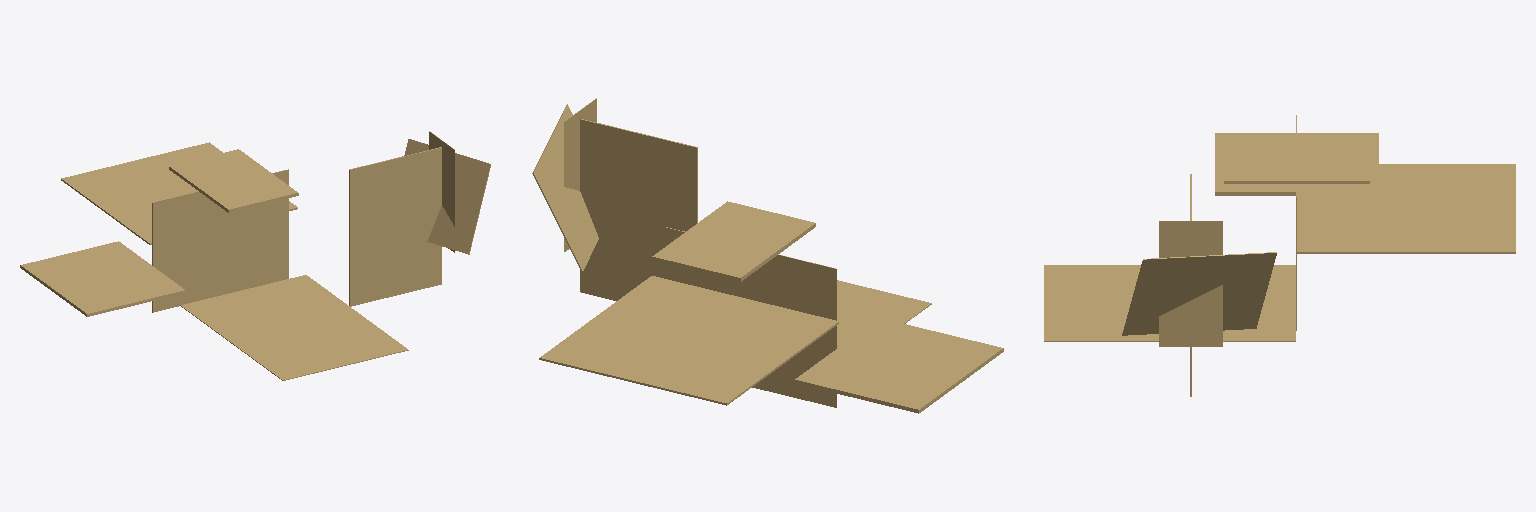
robot.urdf — evolved_design:
<?xml version="1.0" ?>
<robot name="evolved_design">
  <link name="base_link">
    <inertial>
      <mass value="0.001"/>
      <origin xyz="0 0 0" rpy="0 0 0"/>
      <inertia ixx="0.000001" ixy="0" ixz="0" iyy="0.000001" iyz="0" izz="0.000001"/>
    </inertial>
  </link>
  <link name="link_comp_0">
    <inertial>
      <mass value="0.768596"/>
      <origin xyz="0 0 0" rpy="0 0 0"/>
      <inertia ixx="0.034113626" ixy="0" ixz="0" iyy="0.017103133" iyz="0" izz="0.051215608"/>
    </inertial>
    <visual>
      <origin xyz="0 0 0" rpy="0 0 0"/>
      <geometry>
        <box size="0.516740 0.729796 0.002997"/>
      </geometry>
      <material name="link_comp_0_material">
        <color rgba="0.8 0.7 0.5 1"/>
      </material>
    </visual>
    <collision>
      <origin xyz="0 0 0" rpy="0 0 0"/>
      <geometry>
        <box size="0.516740 0.729796 0.002997"/>
      </geometry>
    </collision>
  </link>
  <joint name="base_link_to_link_comp_0" type="fixed">
    <parent link="base_link"/>
    <child link="link_comp_0"/>
    <origin xyz="0.258370 0.364898 0.001499" rpy="0.000000 0.000000 0.000000"/>
  </joint>
  <link name="link_comp_1">
    <inertial>
      <mass value="0.658332"/>
      <origin xyz="0 0 0" rpy="0 0 0"/>
      <inertia ixx="0.015854358" ixy="0" ixz="0" iyy="0.023740530" iyz="0" izz="0.007888647"/>
    </inertial>
    <visual>
      <origin xyz="0 0 0" rpy="0 0 0"/>
      <geometry>
        <box size="0.379171 0.004750 0.537558"/>
      </geometry>
      <material name="link_comp_1_material">
        <color rgba="0.8 0.7 0.5 1"/>
      </material>
    </visual>
    <collision>
      <origin xyz="0 0 0" rpy="0 0 0"/>
      <geometry>
        <box size="0.379171 0.004750 0.537558"/>
      </geometry>
    </collision>
  </link>
  <joint name="base_link_to_link_comp_1" type="fixed">
    <parent link="base_link"/>
    <child link="link_comp_1"/>
    <origin xyz="0.706825 0.424635 0.268779" rpy="0.000000 0.000000 0.000000"/>
  </joint>
  <link name="link_comp_2">
    <inertial>
      <mass value="0.521573"/>
      <origin xyz="0 0 0" rpy="0 0 0"/>
      <inertia ixx="0.008094898" ixy="0" ixz="0" iyy="0.021715280" iyz="0" izz="0.013621258"/>
    </inertial>
    <visual>
      <origin xyz="0 0 0" rpy="0 0 0"/>
      <geometry>
        <box size="0.559803 0.003175 0.431546"/>
      </geometry>
      <material name="link_comp_2_material">
        <color rgba="0.8 0.7 0.5 1"/>
      </material>
    </visual>
    <collision>
      <origin xyz="0 0 0" rpy="0 0 0"/>
      <geometry>
        <box size="0.559803 0.003175 0.431546"/>
      </geometry>
    </collision>
  </link>
  <joint name="base_link_to_link_comp_2" type="fixed">
    <parent link="base_link"/>
    <child link="link_comp_2"/>
    <origin xyz="0.166134 0.731884 0.215773" rpy="0.000000 0.000000 0.000000"/>
  </joint>
  <link name="link_comp_3">
    <inertial>
      <mass value="1.053972"/>
      <origin xyz="0 0 0" rpy="0 0 0"/>
      <inertia ixx="0.015850476" ixy="0" ixz="0" iyy="0.007269775" iyz="0" izz="0.023091918"/>
    </inertial>
    <visual>
      <origin xyz="0 0 0" rpy="0 0 0"/>
      <geometry>
        <box size="0.287417 0.424623 0.012700"/>
      </geometry>
      <material name="link_comp_3_material">
        <color rgba="0.8 0.7 0.5 1"/>
      </material>
    </visual>
    <collision>
      <origin xyz="0 0 0" rpy="0 0 0"/>
      <geometry>
        <box size="0.287417 0.424623 0.012700"/>
      </geometry>
    </collision>
  </link>
  <joint name="base_link_to_link_comp_3" type="fixed">
    <parent link="base_link"/>
    <child link="link_comp_3"/>
    <origin xyz="0.220309 0.732444 0.438396" rpy="0.000000 0.000000 0.000000"/>
  </joint>
  <link name="link_comp_4">
    <inertial>
      <mass value="0.102988"/>
      <origin xyz="0 0 0" rpy="0 0 0"/>
      <inertia ixx="0.001696381" ixy="0" ixz="0" iyy="0.001405224" iyz="0" izz="0.000291228"/>
    </inertial>
    <visual>
      <origin xyz="0 0 0" rpy="0 0 0"/>
      <geometry>
        <box size="0.002032 0.184199 0.404636"/>
      </geometry>
      <material name="link_comp_4_material">
        <color rgba="0.8 0.7 0.5 1"/>
      </material>
    </visual>
    <collision>
      <origin xyz="0 0 0" rpy="0 0 0"/>
      <geometry>
        <box size="0.002032 0.184199 0.404636"/>
      </geometry>
    </collision>
  </link>
  <joint name="base_link_to_link_comp_4" type="fixed">
    <parent link="base_link"/>
    <child link="link_comp_4"/>
    <origin xyz="0.897927 0.424789 0.362100" rpy="0.000000 0.000000 0.000000"/>
  </joint>
  <link name="link_comp_5">
    <inertial>
      <mass value="1.665711"/>
      <origin xyz="0 0 0" rpy="0 0 0"/>
      <inertia ixx="0.055591242" ixy="0" ixz="0" iyy="0.051588807" iyz="0" izz="0.107168856"/>
    </inertial>
    <visual>
      <origin xyz="0 0 0" rpy="0 0 0"/>
      <geometry>
        <box size="0.609600 0.632808 0.006350"/>
      </geometry>
      <material name="link_comp_5_material">
        <color rgba="0.8 0.7 0.5 1"/>
      </material>
    </visual>
    <collision>
      <origin xyz="0 0 0" rpy="0 0 0"/>
      <geometry>
        <box size="0.609600 0.632808 0.006350"/>
      </geometry>
    </collision>
  </link>
  <joint name="base_link_to_link_comp_5" type="fixed">
    <parent link="base_link"/>
    <child link="link_comp_5"/>
    <origin xyz="0.181850 1.050376 0.268720" rpy="0.000000 0.000000 0.000000"/>
  </joint>
  <link name="link_comp_6">
    <inertial>
      <mass value="1.564937"/>
      <origin xyz="0 0 0" rpy="0 0 0"/>
      <inertia ixx="0.029473396" ixy="0" ixz="0" iyy="0.021295327" iyz="0" izz="0.050731235"/>
    </inertial>
    <visual>
      <origin xyz="0 0 0" rpy="0 0 0"/>
      <geometry>
        <box size="0.403918 0.475247 0.011989"/>
      </geometry>
      <material name="link_comp_6_material">
        <color rgba="0.8 0.7 0.5 1"/>
      </material>
    </visual>
    <collision>
      <origin xyz="0 0 0" rpy="0 0 0"/>
      <geometry>
        <box size="0.403918 0.475247 0.011989"/>
      </geometry>
    </collision>
  </link>
  <joint name="base_link_to_link_comp_6" type="fixed">
    <parent link="base_link"/>
    <child link="link_comp_6"/>
    <origin xyz="-0.316227 0.732447 0.178403" rpy="0.000000 0.000000 0.000000"/>
  </joint>
  <link name="link_comp_7">
    <inertial>
      <mass value="0.291925"/>
      <origin xyz="0 0 0" rpy="0 0 0"/>
      <inertia ixx="0.006711573" ixy="0" ixz="0" iyy="0.002691589" iyz="0" izz="0.004020474"/>
    </inertial>
    <visual>
      <origin xyz="0 0 0" rpy="0 0 0"/>
      <geometry>
        <box size="0.003175 0.406518 0.332613"/>
      </geometry>
      <material name="link_comp_7_material">
        <color rgba="0.8 0.7 0.5 1"/>
      </material>
    </visual>
    <collision>
      <origin xyz="0 0 0" rpy="0 0 0"/>
      <geometry>
        <box size="0.003175 0.406518 0.332613"/>
      </geometry>
    </collision>
  </link>
  <joint name="base_link_to_link_comp_7" type="fixed">
    <parent link="base_link"/>
    <child link="link_comp_7"/>
    <origin xyz="0.901031 0.450417 0.332163" rpy="-0.083462 0.424613 0.249538"/>
  </joint>
</robot>

--- Render facts (derived) ---
Views: 3 orthographic renders of the robot side by side, from view 1: azimuth 30°, elevation 25°; view 2: azimuth 150°, elevation 25°; view 3: azimuth 270°, elevation 25°.
Model evolved_design with 9 links and 8 joints (8 fixed), rooted at base_link, posed all joints at 0.
Visible links, largest first — view 1: link_comp_0, link_comp_1, link_comp_2, link_comp_6, link_comp_5, link_comp_3, link_comp_7, link_comp_4; view 2: link_comp_5, link_comp_1, link_comp_6, link_comp_2, link_comp_3, link_comp_7, link_comp_0, link_comp_4; view 3: link_comp_5, link_comp_0, link_comp_7, link_comp_3, link_comp_4, link_comp_6.
Boxes of the visible links, bbox=[...] form: link_comp_0: bbox=[180, 275, 408, 380]; link_comp_1: bbox=[349, 147, 441, 306]; link_comp_2: bbox=[152, 169, 288, 312]; link_comp_6: bbox=[20, 241, 185, 316]; link_comp_5: bbox=[61, 142, 297, 244]; link_comp_3: bbox=[169, 149, 298, 212]; link_comp_7: bbox=[404, 139, 490, 254]; link_comp_4: bbox=[429, 131, 454, 252]; link_comp_5: bbox=[539, 276, 838, 405]; link_comp_1: bbox=[580, 119, 697, 300]; link_comp_6: bbox=[795, 318, 1003, 413]; link_comp_2: bbox=[664, 227, 836, 407]; link_comp_3: bbox=[652, 201, 815, 281]; link_comp_7: bbox=[532, 104, 598, 271]; link_comp_0: bbox=[837, 280, 931, 347]; link_comp_4: bbox=[564, 98, 596, 251]; link_comp_5: bbox=[1297, 164, 1515, 253]; link_comp_0: bbox=[1044, 265, 1295, 341]; link_comp_7: bbox=[1122, 252, 1276, 335]; link_comp_3: bbox=[1224, 139, 1369, 183]; link_comp_4: bbox=[1159, 221, 1222, 346]; link_comp_6: bbox=[1215, 133, 1378, 195].
Bounding box of the posed robot: 1.54 × 1.37 × 0.5644 m (x, y, z).
Geometry: primitives only (box / cylinder / sphere), no mesh files.